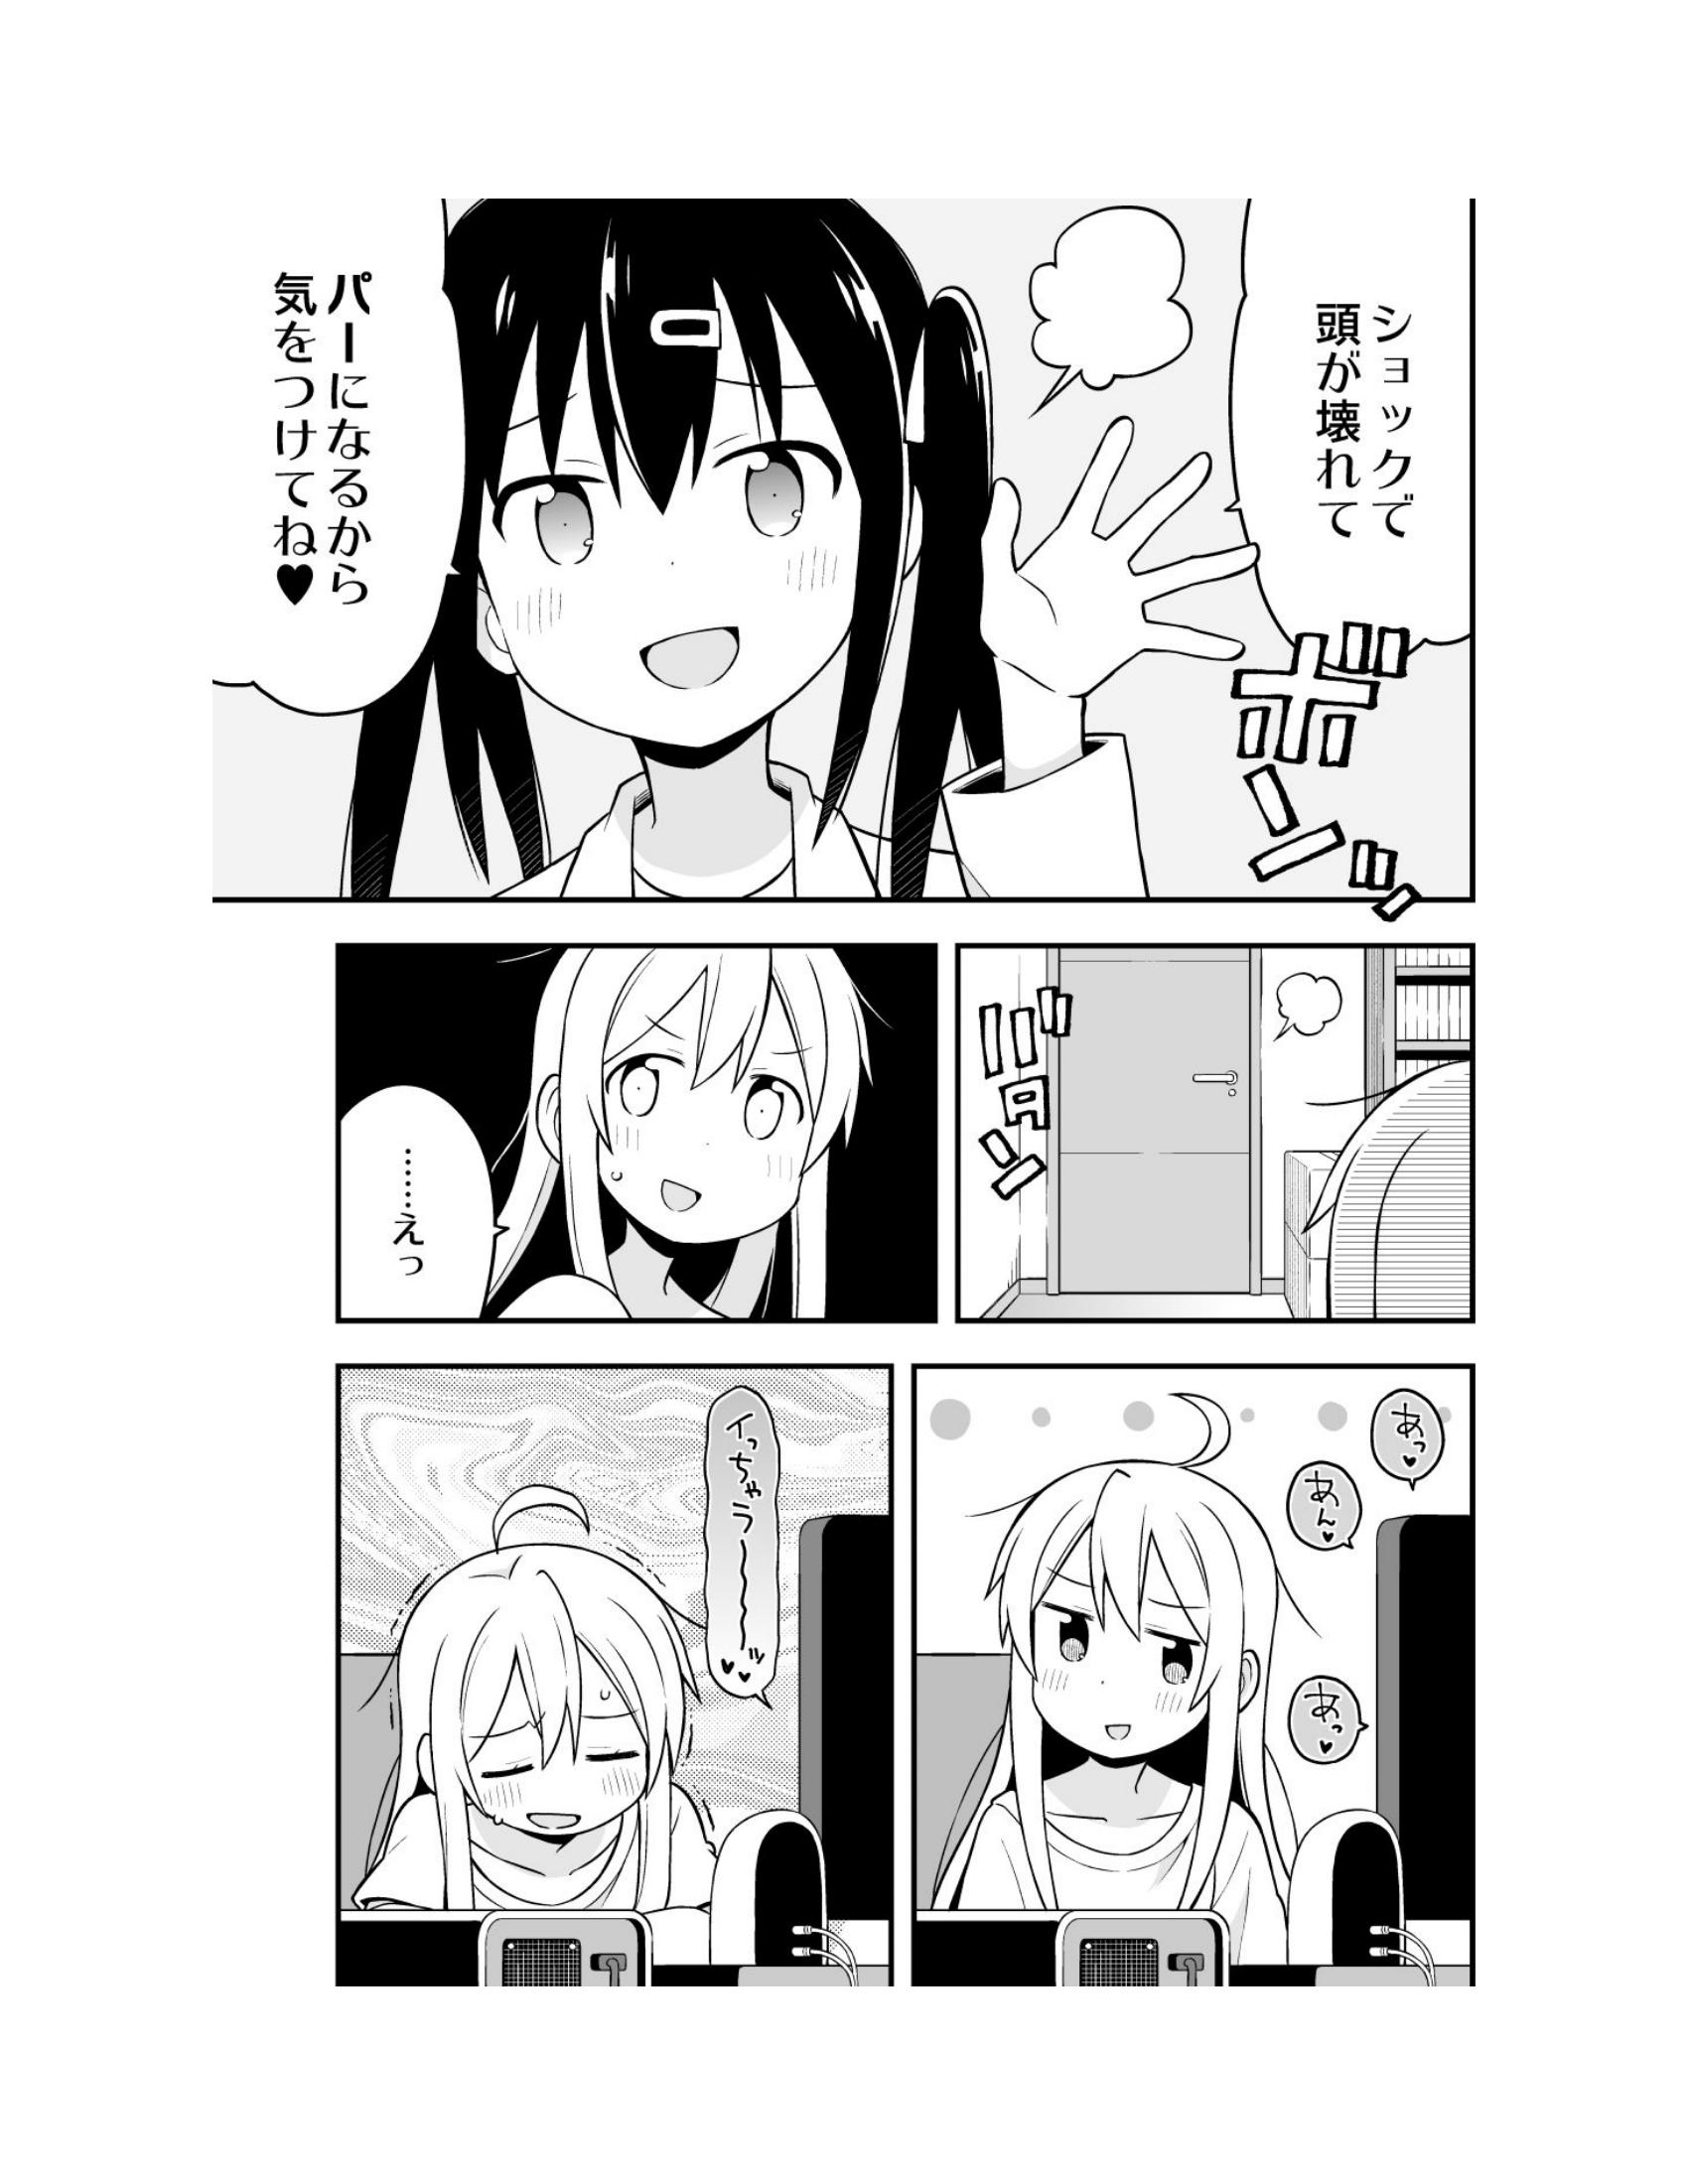a: (200, 191, 470, 723), (1234, 188, 1473, 640)
